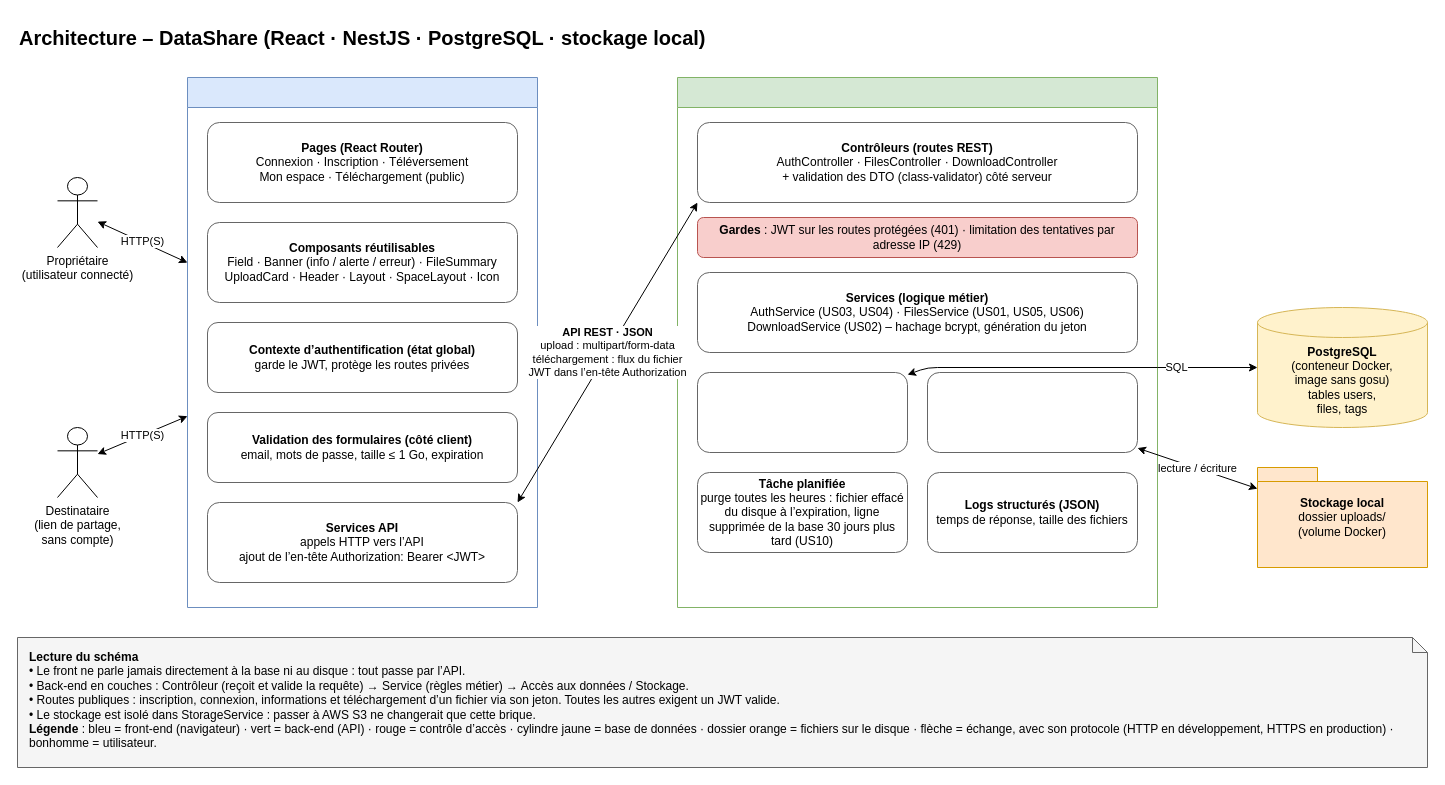
The diagram is 1445 pixels wide and 785 high, and some of its shapes have lost their labels. Here are the shapes that lost their labels. From the top down, the box of each, then its label:
(186, 76, 538, 608): Front-end – React (application dans le navigateur)
(676, 76, 1158, 608): Back-end – API REST NestJS (Node.js)
(696, 372, 908, 452): Accès aux données TypeORM (repositories)
(926, 372, 1138, 452): StorageService écriture / lecture des fichiers (local, remplaçable par S3)
